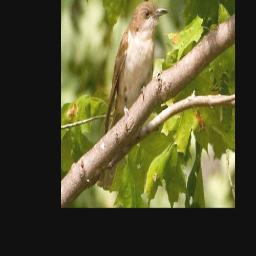Cuckoo: (96, 0, 169, 193)
